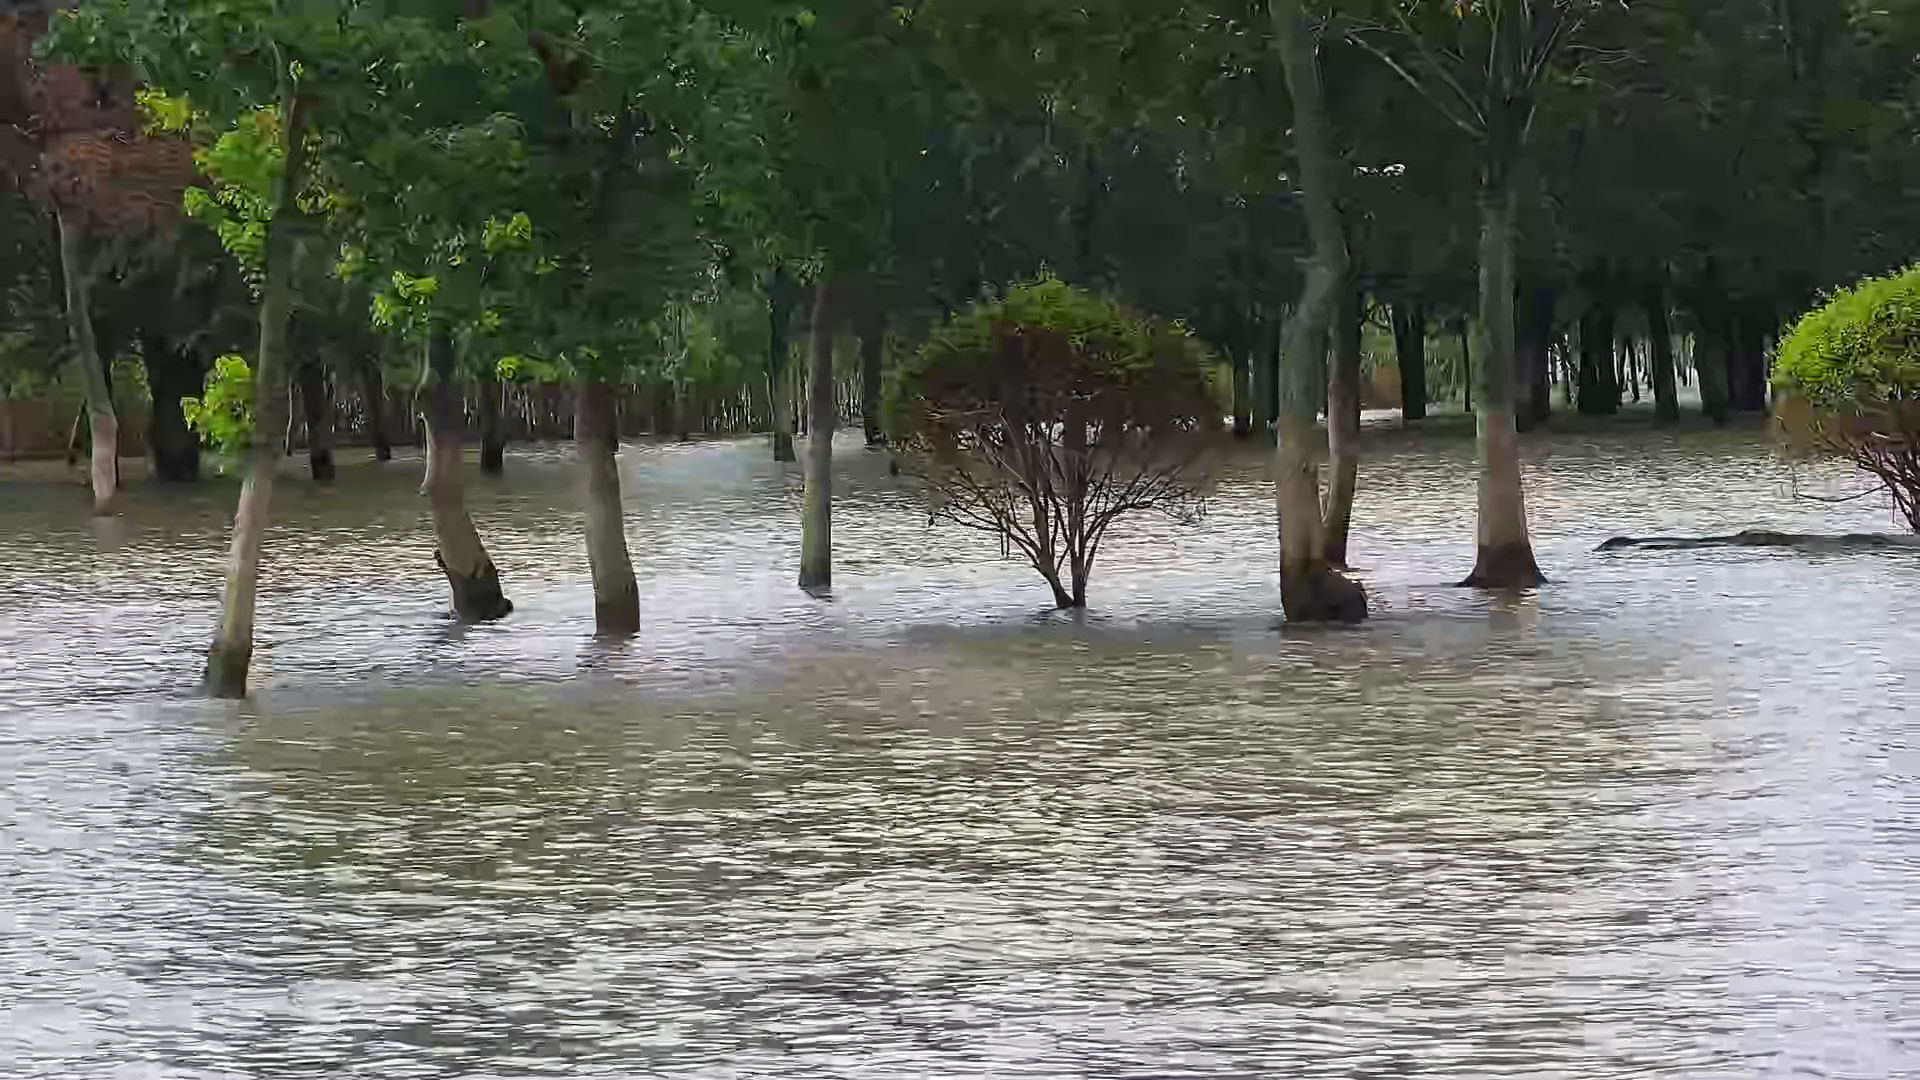tree: (1046, 1, 1423, 622), (433, 1, 749, 632), (633, 1, 967, 589), (132, 1, 368, 708), (1346, 1, 1622, 587), (305, 1, 531, 621), (877, 272, 1232, 613), (1, 1, 195, 513), (1698, 258, 1920, 535)
